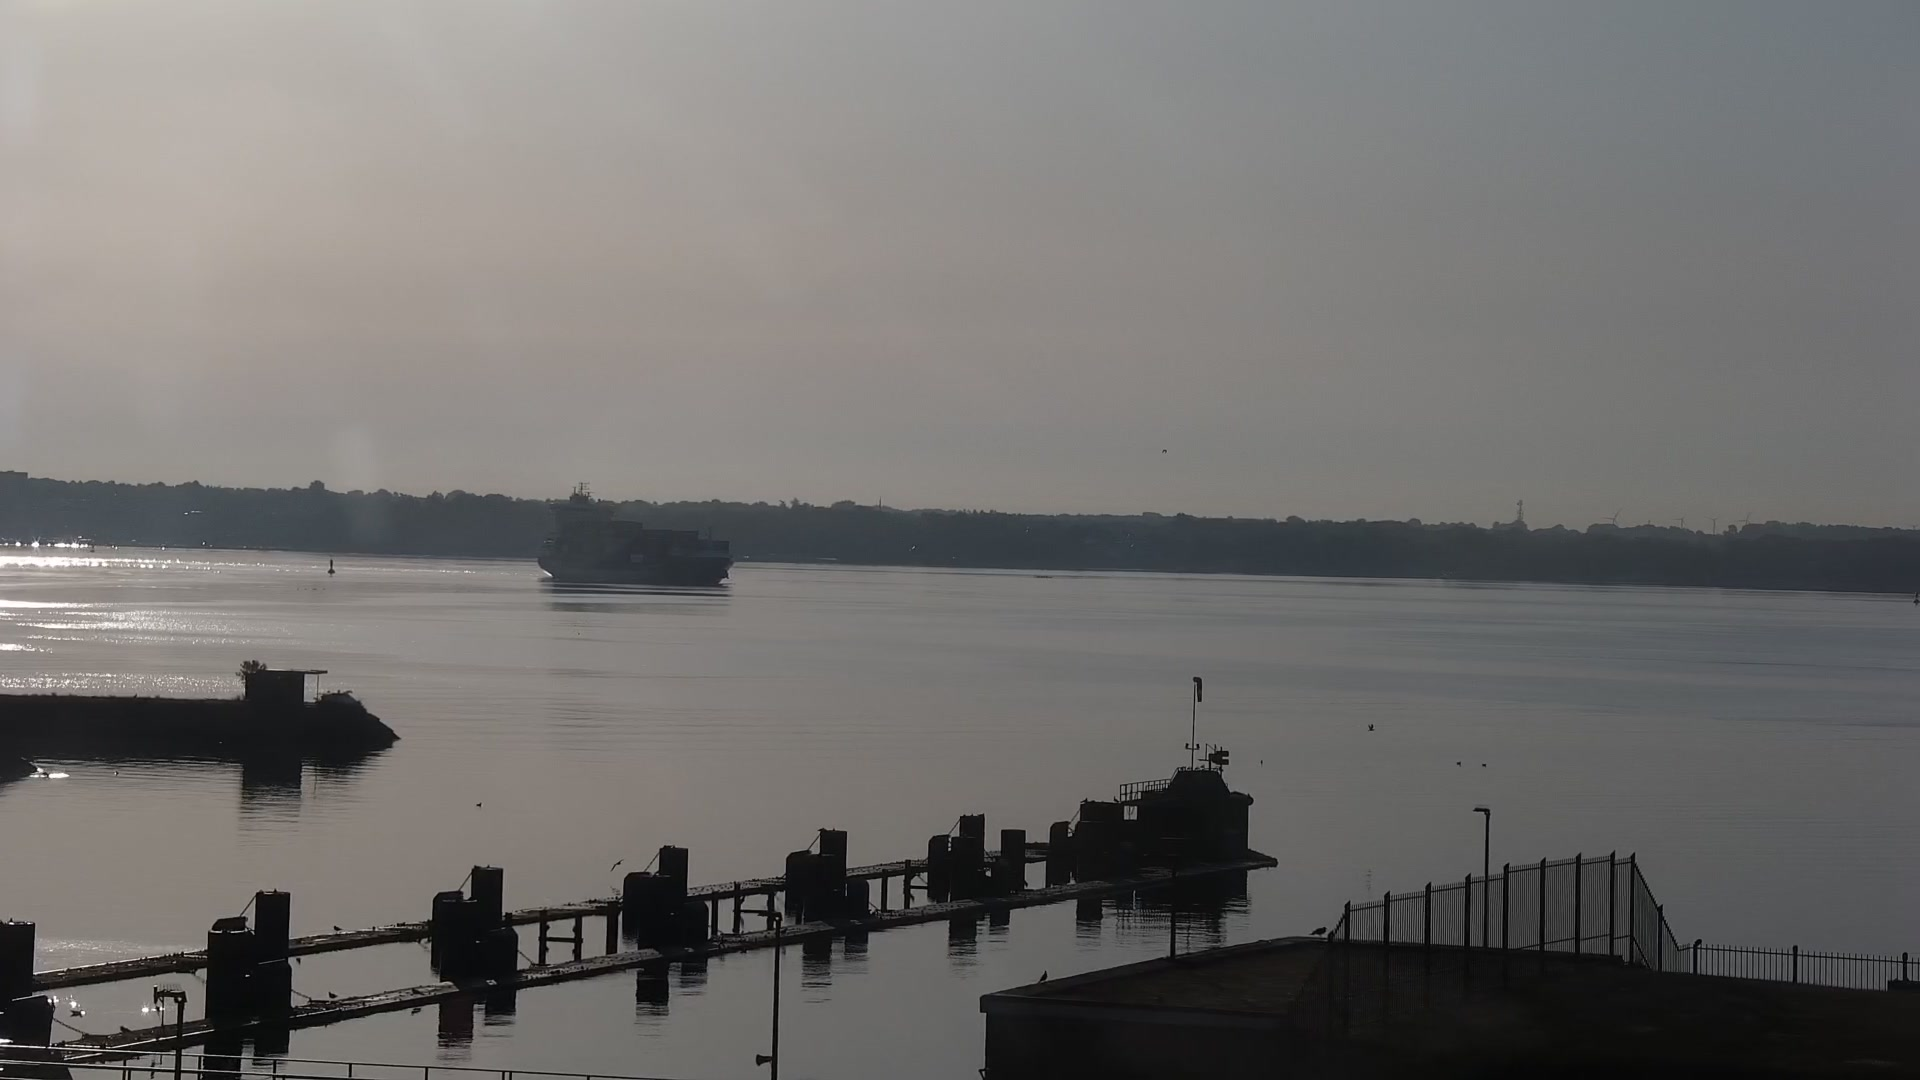sea: (534, 477, 735, 585)
